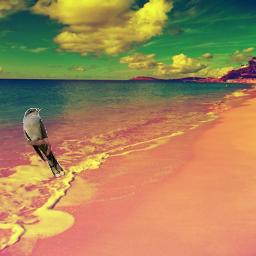Cuckoo: (23, 108, 65, 178)
